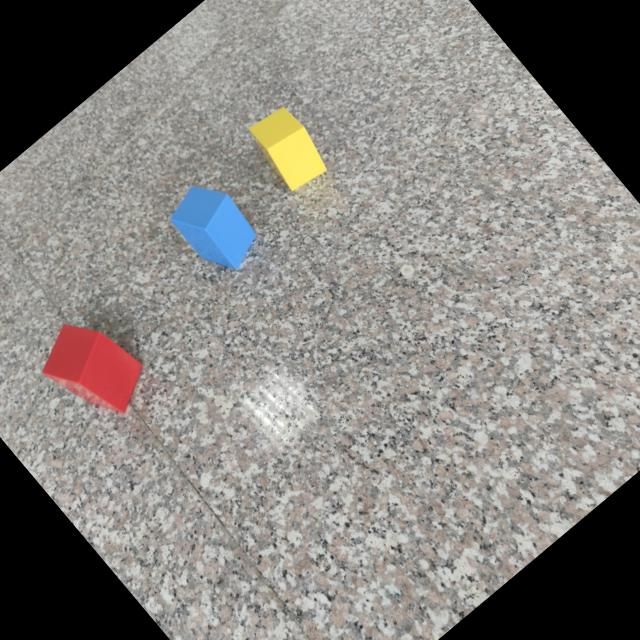blue: (171, 186, 257, 270)
red: (42, 323, 145, 415)
yellow: (250, 108, 327, 192)
